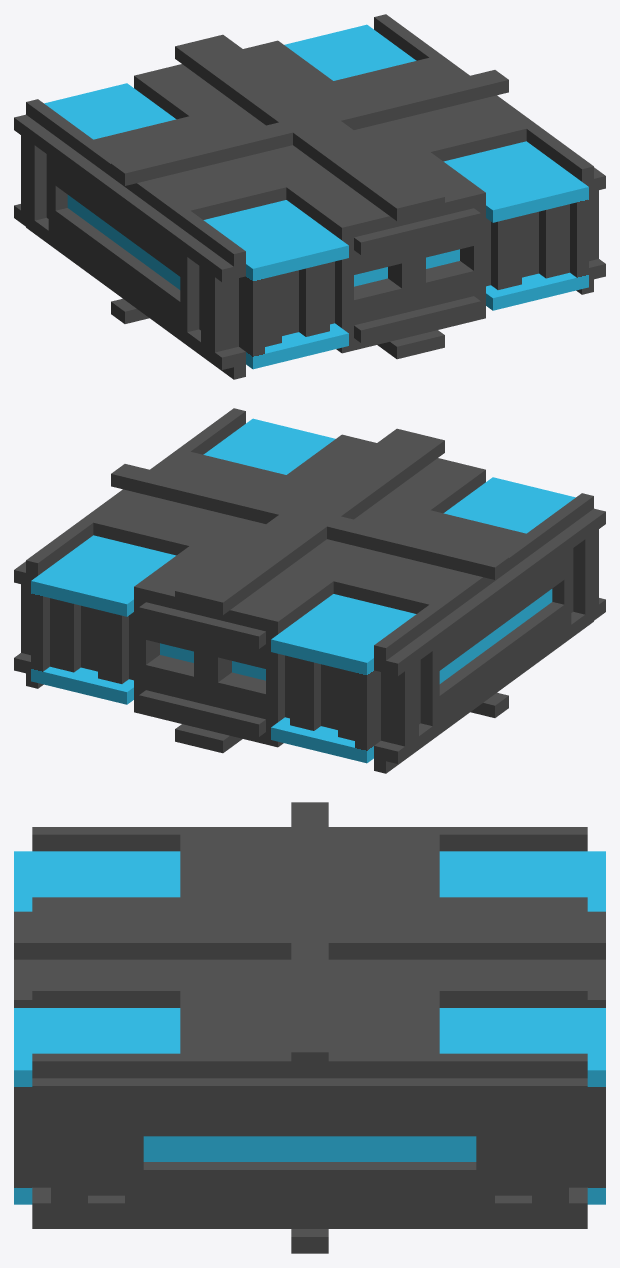
The model's file is alien_saucer1b.fbx.
3 views of the same model, one above another, from view 1: azimuth 30°, elevation 25°; view 2: azimuth 150°, elevation 25°; view 3: azimuth 270°, elevation 25° (orthographic). The views are drawn at different scales.
Visible parts, largest first — view 1: alien_saucer1b; view 2: alien_saucer1b; view 3: alien_saucer1b.
Part boxes in pixels (x1=…): alien_saucer1b: x1=14, y1=14, x2=605, y2=379; alien_saucer1b: x1=14, y1=408, x2=605, y2=773; alien_saucer1b: x1=14, y1=802, x2=605, y2=1253.
Bounding box in the file's own units: 3.2 × 3.2 × 1.2.
1 material, 1 textured.
